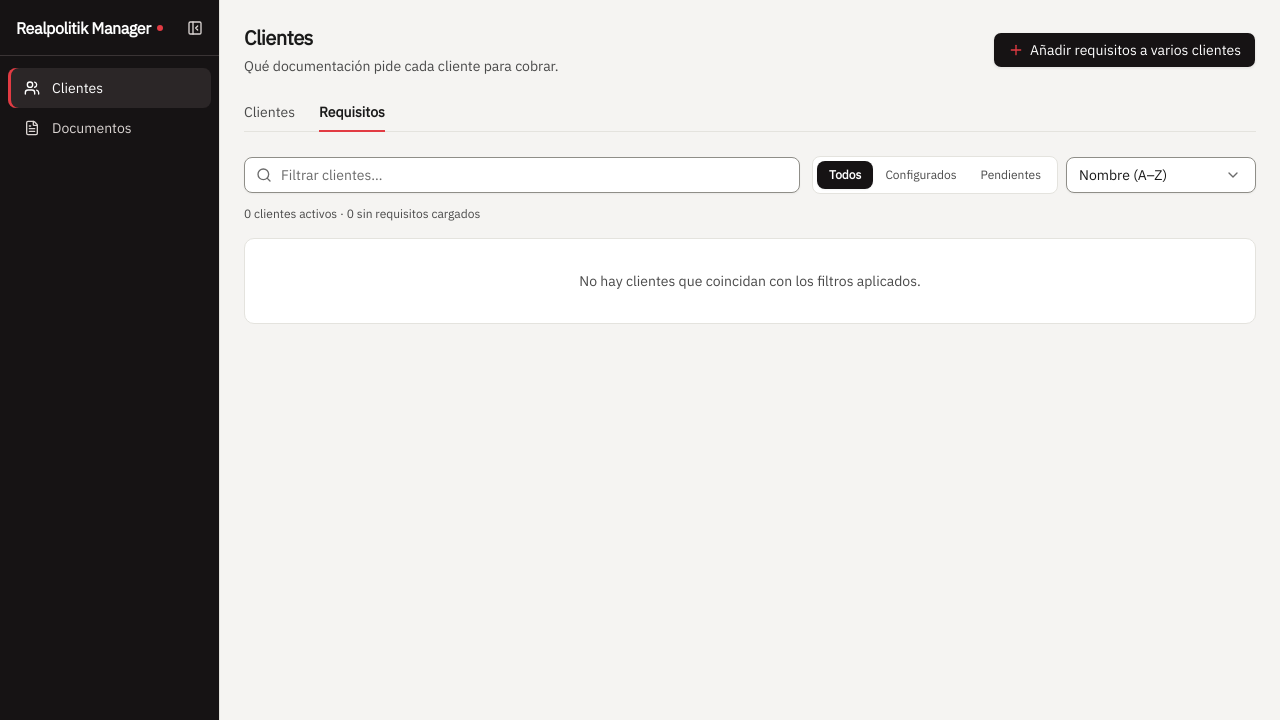
Test: ClientesNav › desde Requisitos vuelve a Clientes con su enlace
This screenshot has width=1280, height=720.
Click the 2nd link "Clientes". click: [270, 112]
box: [244,102,295,120]
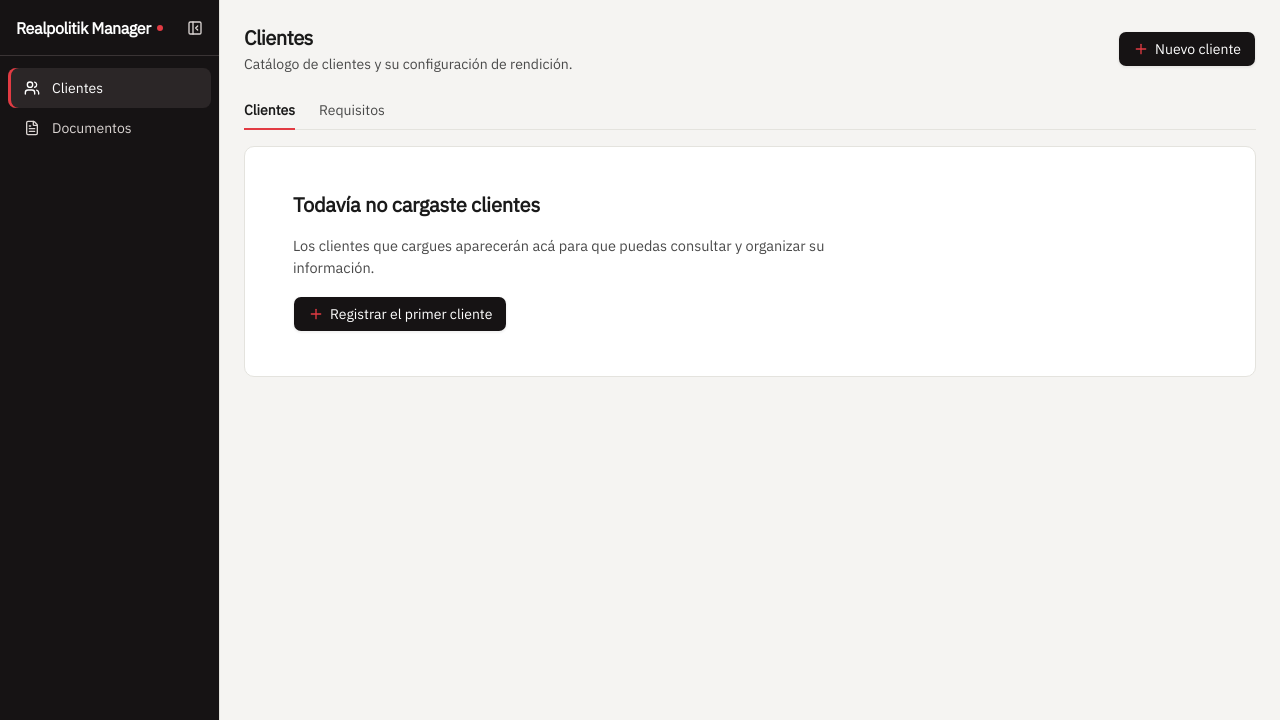
Result: the text "Catálogo de clientes y su configuración de rendición." is shown at [244,54,572,74]
